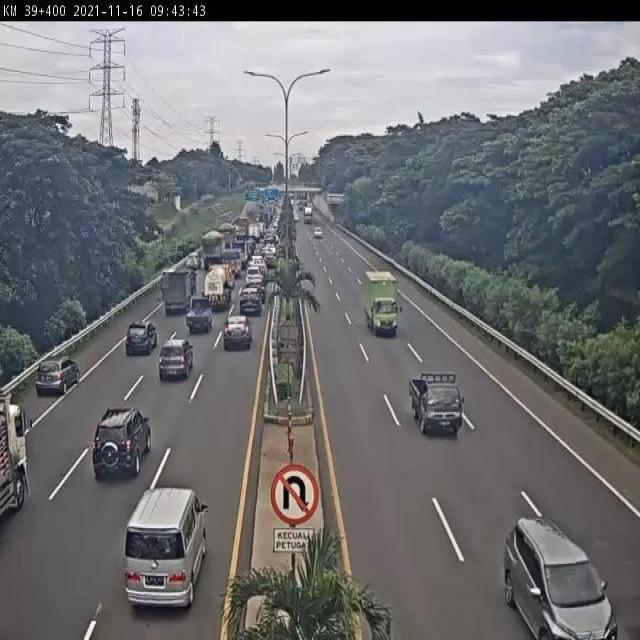car: (504, 515, 620, 637), (119, 480, 216, 621), (87, 400, 155, 483), (405, 365, 466, 440), (32, 352, 83, 400), (156, 337, 195, 388), (123, 315, 161, 360), (220, 310, 254, 354), (186, 295, 216, 337), (237, 289, 263, 319), (244, 275, 267, 304), (183, 248, 204, 272), (244, 265, 264, 288), (251, 253, 266, 272), (264, 251, 278, 268)
small truck: (362, 273, 402, 340), (157, 266, 196, 322), (220, 248, 244, 280)
truck-m-: (203, 263, 234, 313), (198, 232, 226, 276), (216, 219, 236, 248)
